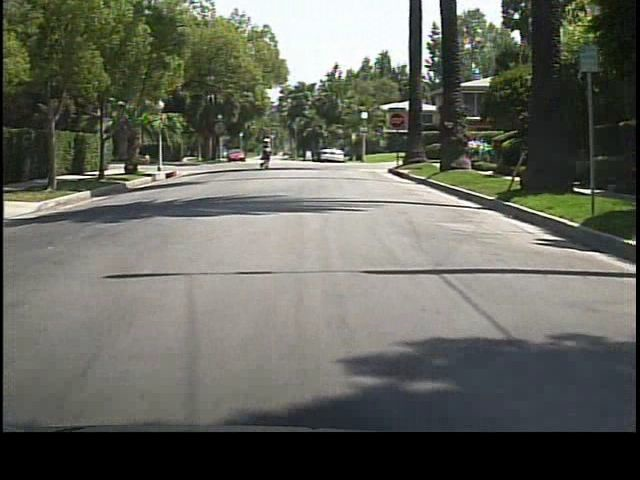person: (259, 134, 274, 170)
